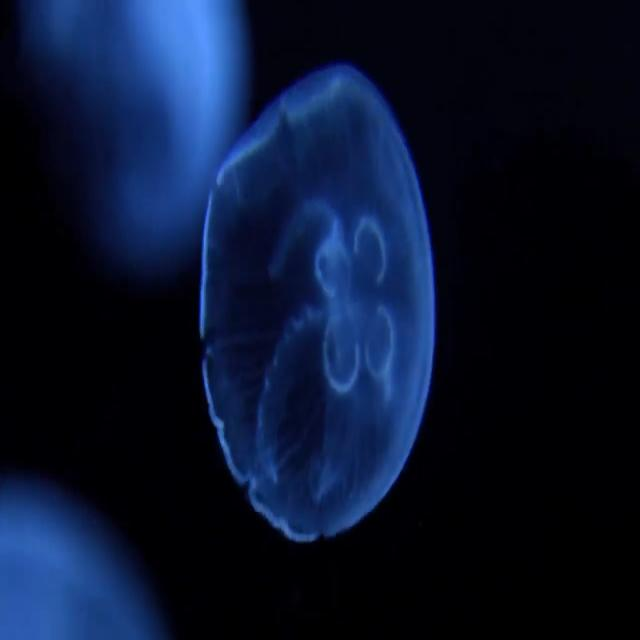Moon-jellyfish: (200, 66, 434, 541)
